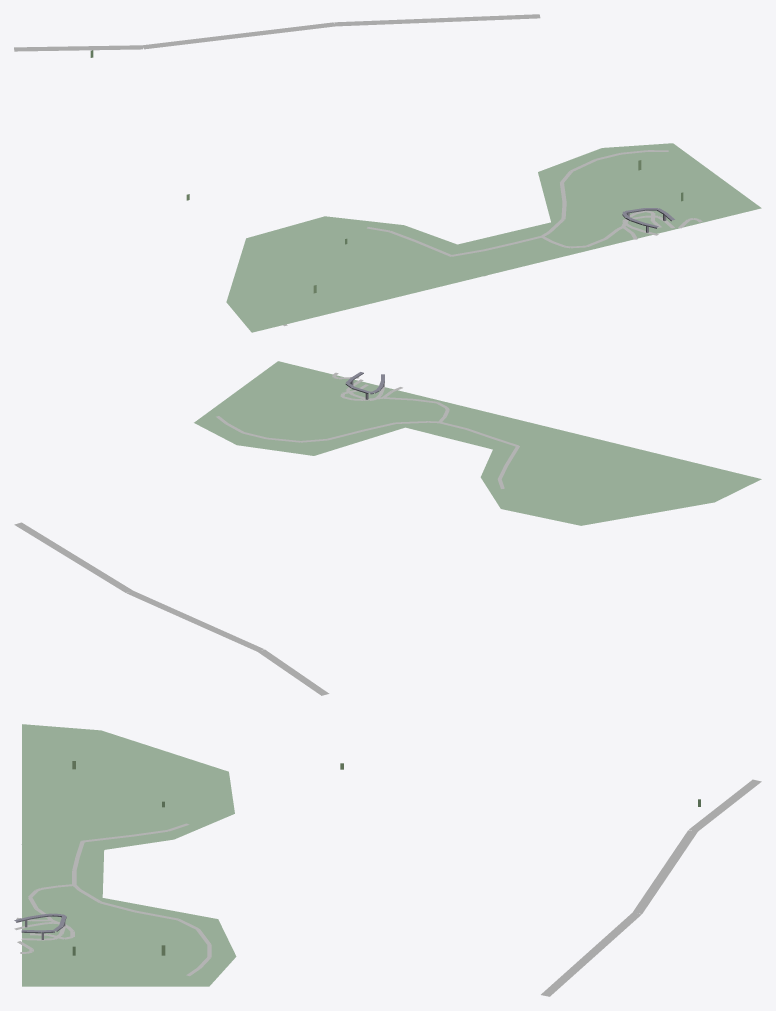
3 views of the same model, one above another, from view 1: azimuth 30°, elevation 25°; view 2: azimuth 150°, elevation 25°; view 3: azimuth 270°, elevation 25° (orthographic). The views are drawn at different scales.
Bounding box in the file's own units: 440 × 11.27 × 502.
